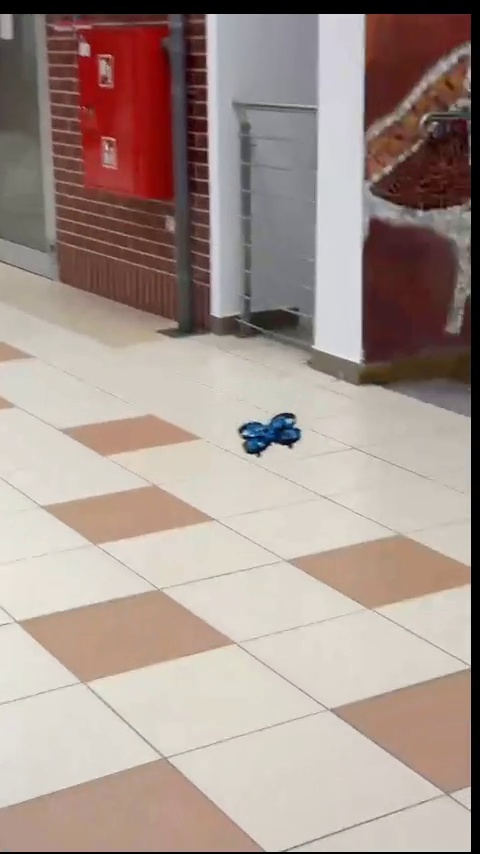drone: (242, 415, 298, 452)
